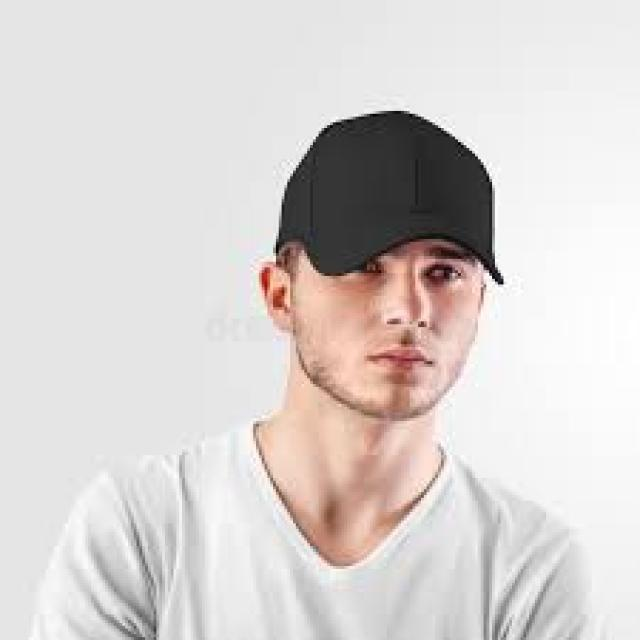cap: (260, 79, 532, 322)
